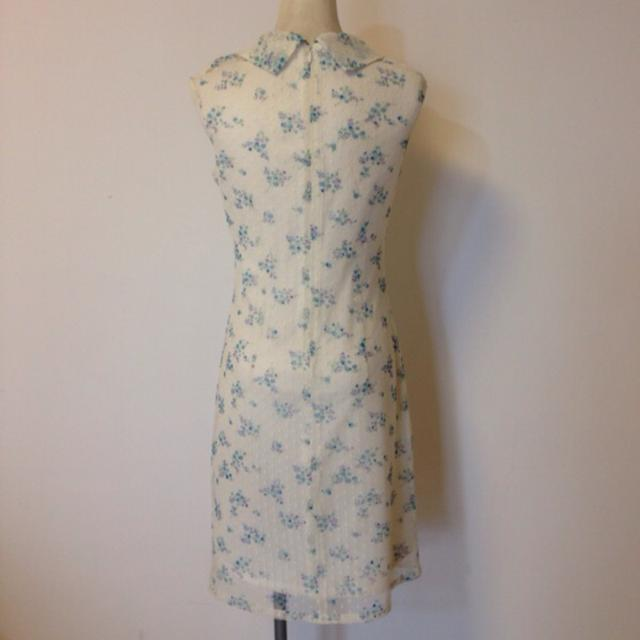Dresses: (190, 30, 427, 640)
